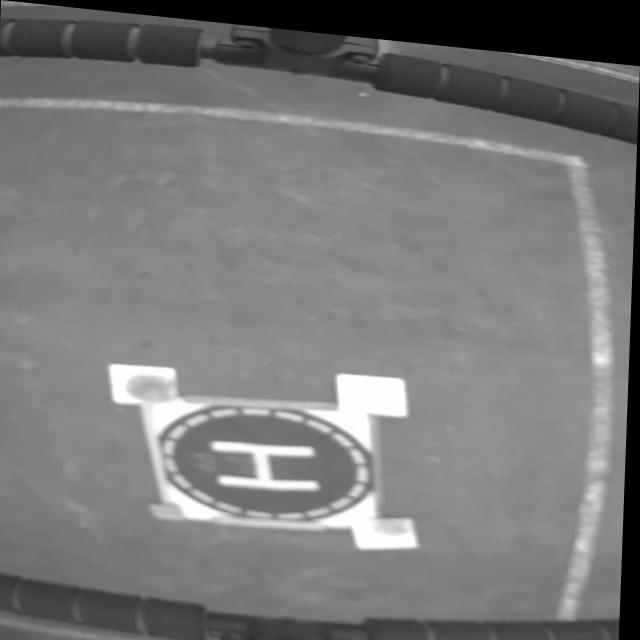Helipad: (214, 436, 322, 486)
